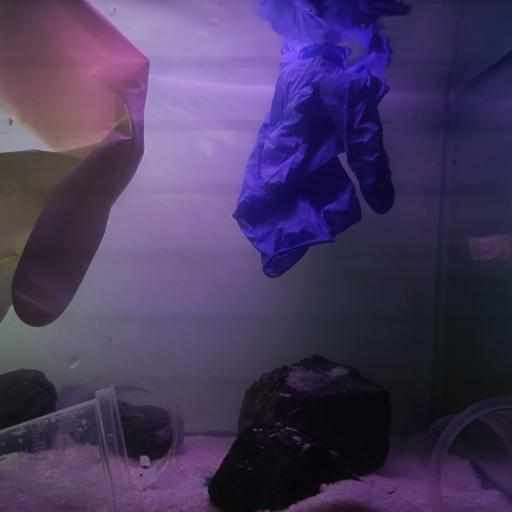glove: (4, 0, 150, 328), (230, 0, 398, 281)
plastic_cup: (0, 383, 141, 510), (50, 371, 186, 489), (415, 394, 512, 512)
